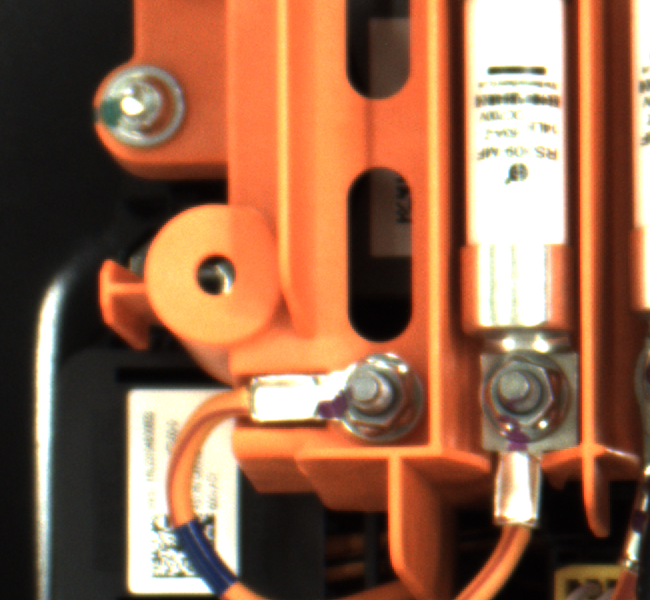screw_m: (85, 59, 215, 163)
screw_s: (476, 346, 577, 445), (330, 345, 420, 443)
